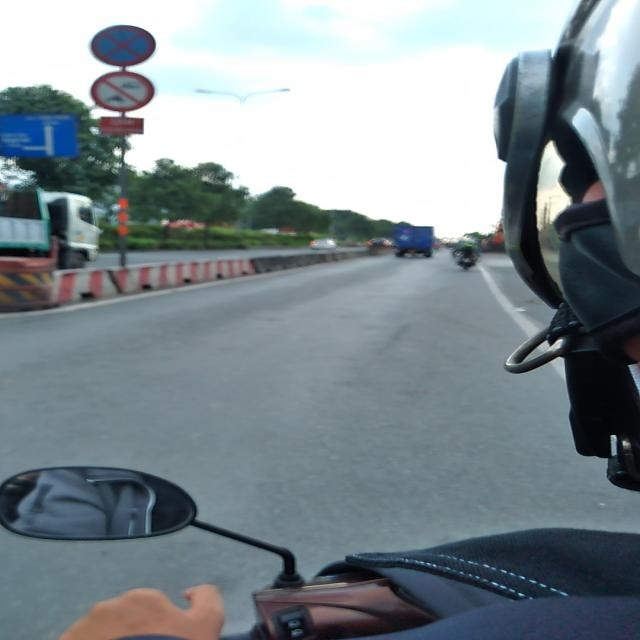bien_cam: (90, 25, 156, 67)
